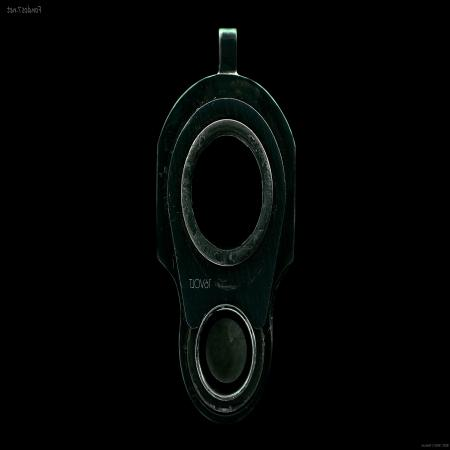Pistol: (156, 19, 300, 428)
